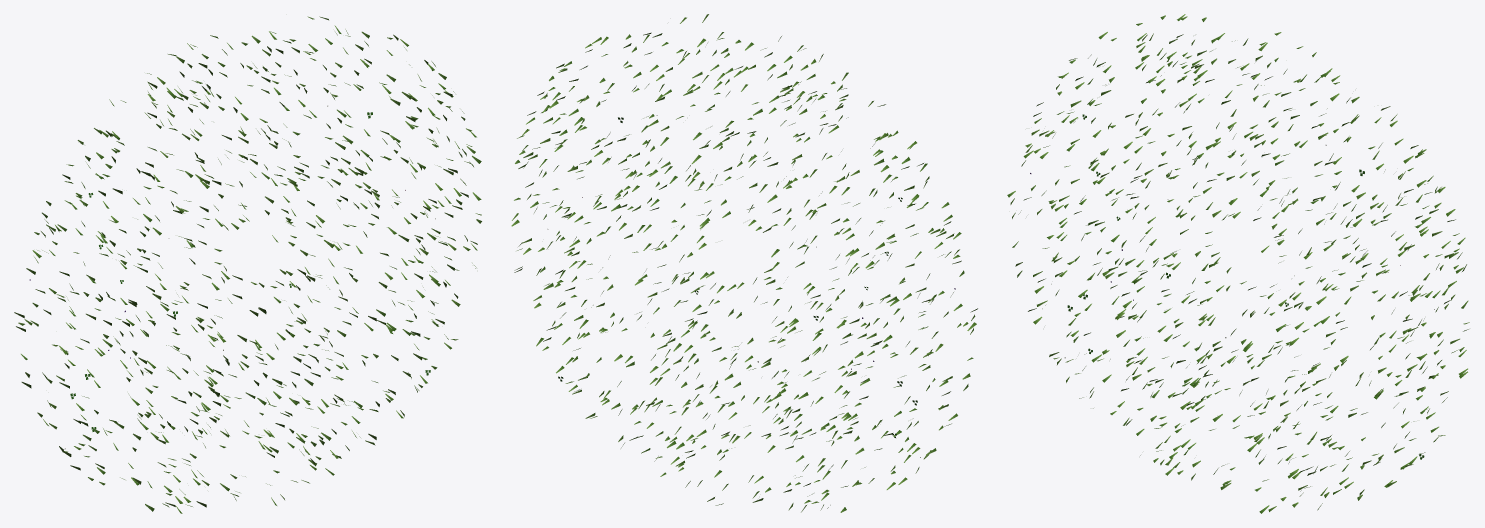
Rendered from Grass_Tile_SheepMeadow.glb.
3 renders of one model, left to right at view 1: azimuth 30°, elevation 25°; view 2: azimuth 150°, elevation 25°; view 3: azimuth 330°, elevation 25°, orthographic.
Visible parts, largest first — view 1: Grass_Tile_SheepMeadow; view 2: Grass_Tile_SheepMeadow; view 3: Grass_Tile_SheepMeadow.
Boxes of the visible parts, x1,y1,x2,y2 form: Grass_Tile_SheepMeadow: (14, 16, 481, 513); Grass_Tile_SheepMeadow: (511, 14, 977, 512); Grass_Tile_SheepMeadow: (1007, 14, 1469, 513).
Bounding box in the file's own units: 1.97 × 1.98 × 0.0672.
